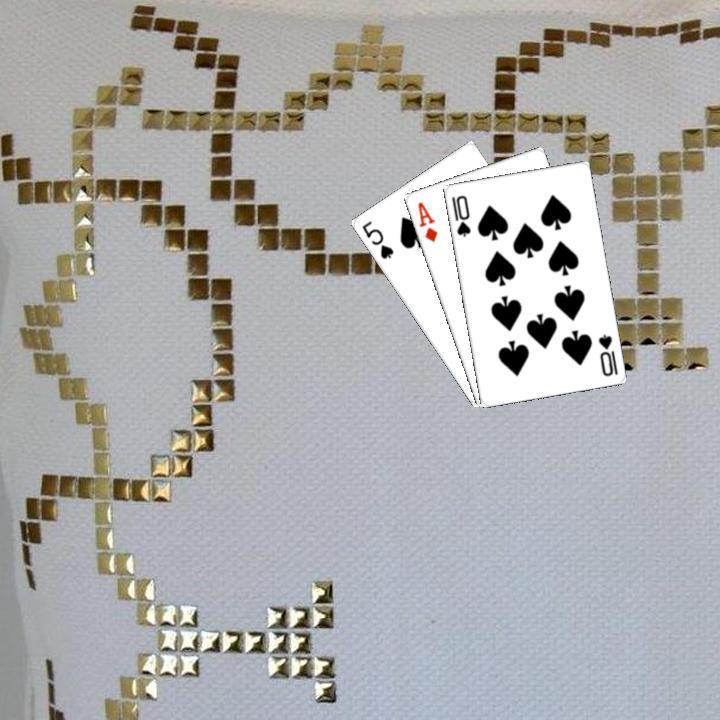10: (594, 329, 619, 378), (447, 190, 472, 238)
5: (357, 216, 395, 261)
A: (413, 197, 439, 244)
